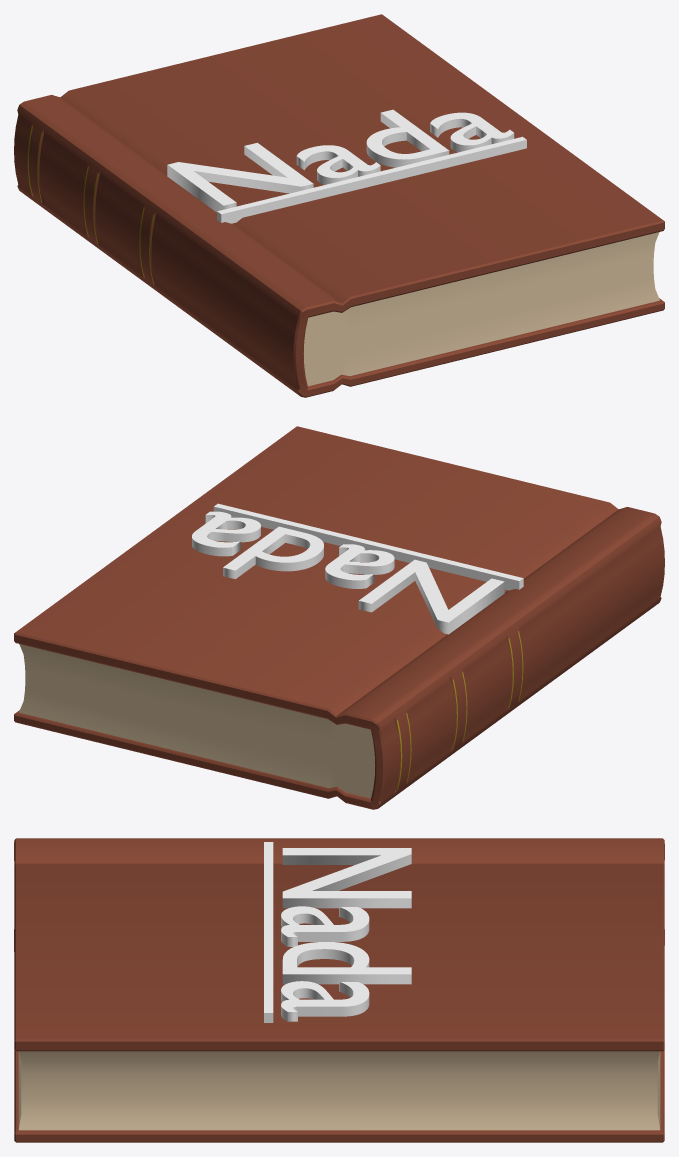
Rendered from nadabook.fbx.
The picture shows the model from 3 angles, top to bottom: view 1: azimuth 30°, elevation 25°; view 2: azimuth 150°, elevation 25°; view 3: azimuth 270°, elevation 25°; orthographic projection. The views are drawn at different scales.
Visible parts, largest first — view 1: Buch, Text; view 2: Buch, Text; view 3: Buch, Text.
Boxes of the visible parts, x1,y1,x2,y2 form: Buch: [14, 14, 664, 397]; Text: [167, 109, 526, 223]; Buch: [14, 426, 664, 809]; Text: [192, 503, 523, 634]; Buch: [14, 838, 664, 1142]; Text: [264, 842, 411, 1022].
Bounding box in the file's own units: 0.6516 × 0.1655 × 0.8617.
